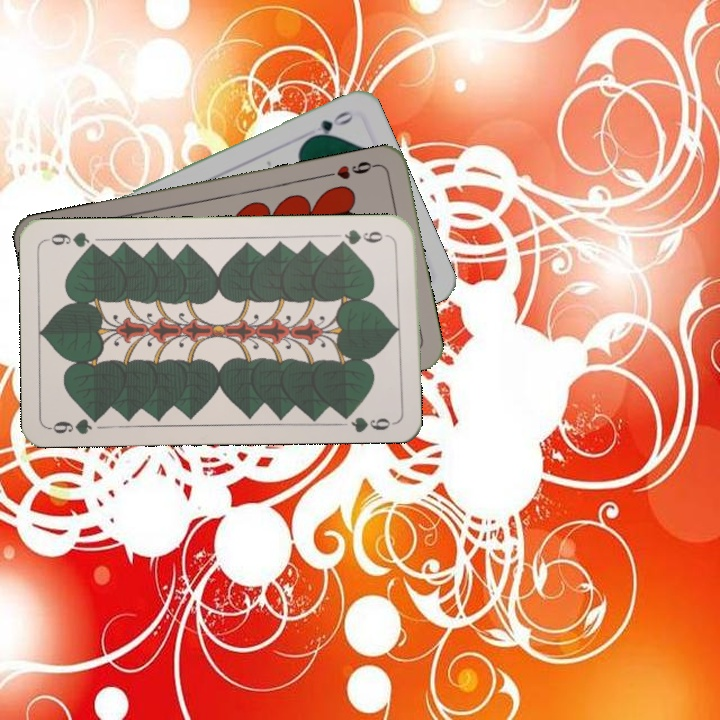G9: (46, 411, 105, 437), (334, 225, 393, 249)
GO: (303, 106, 356, 143)
H9: (322, 157, 381, 182)
